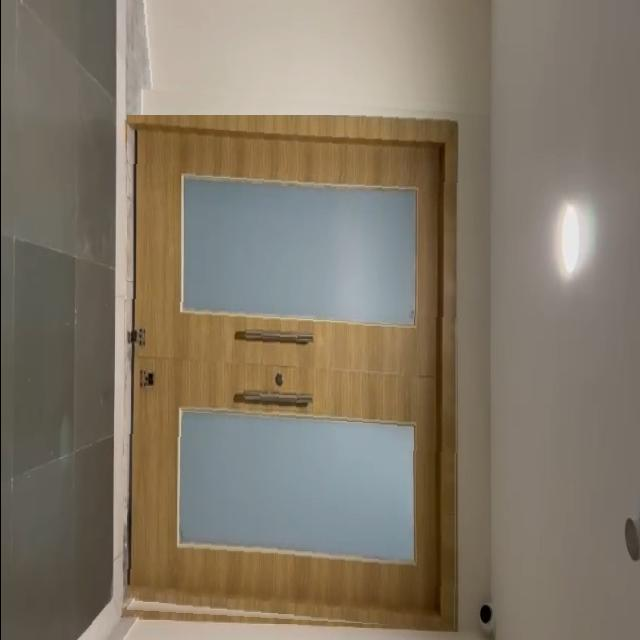door: (126, 115, 458, 629)
floor: (0, 0, 125, 640)
wall: (128, 0, 489, 116)
